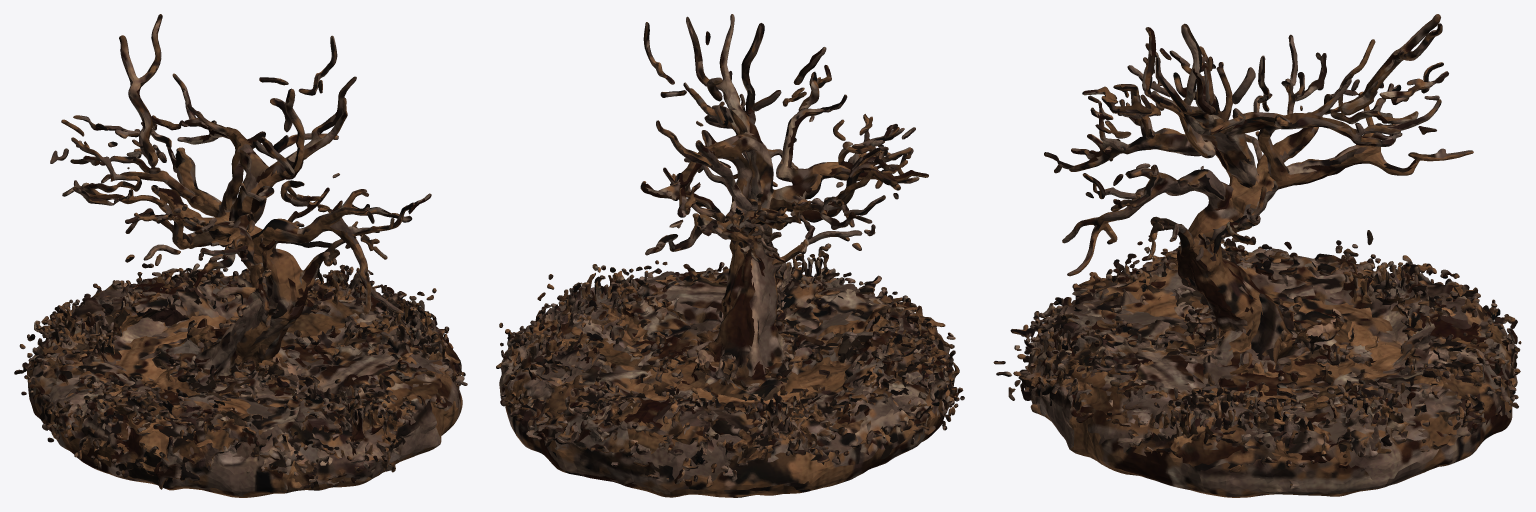
File: swamp_center_tree_variant.obj
3 renders of one model, left to right at view 1: azimuth 30°, elevation 25°; view 2: azimuth 150°, elevation 25°; view 3: azimuth 270°, elevation 25°, orthographic. The views are drawn at different scales.
Visible parts, largest first — view 1: geometry_0; view 2: geometry_0; view 3: geometry_0.
Boxes of the visible parts, left/top/right/bottom form: geometry_0: left=14, top=14, right=467, bottom=497; geometry_0: left=496, top=14, right=964, bottom=497; geometry_0: left=993, top=14, right=1521, bottom=497.
Size of the model in its own units: 0.9618 by 0.8248 by 1.
